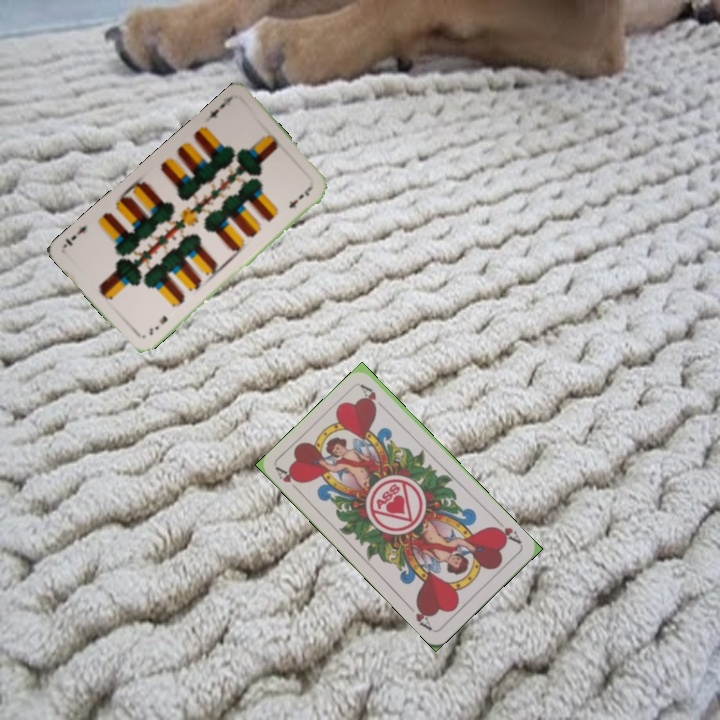E7: (145, 311, 170, 338), (205, 98, 228, 121)
HA: (488, 515, 524, 547), (272, 464, 305, 497)
